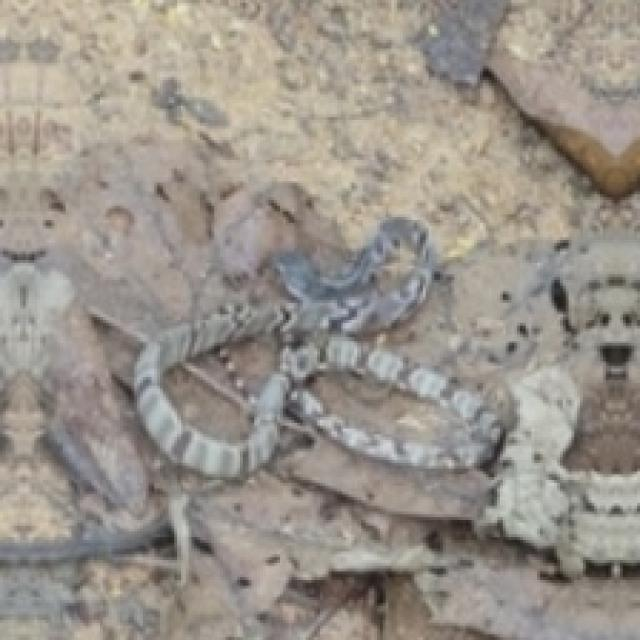dog-toothed cat snake: (134, 217, 500, 477)
